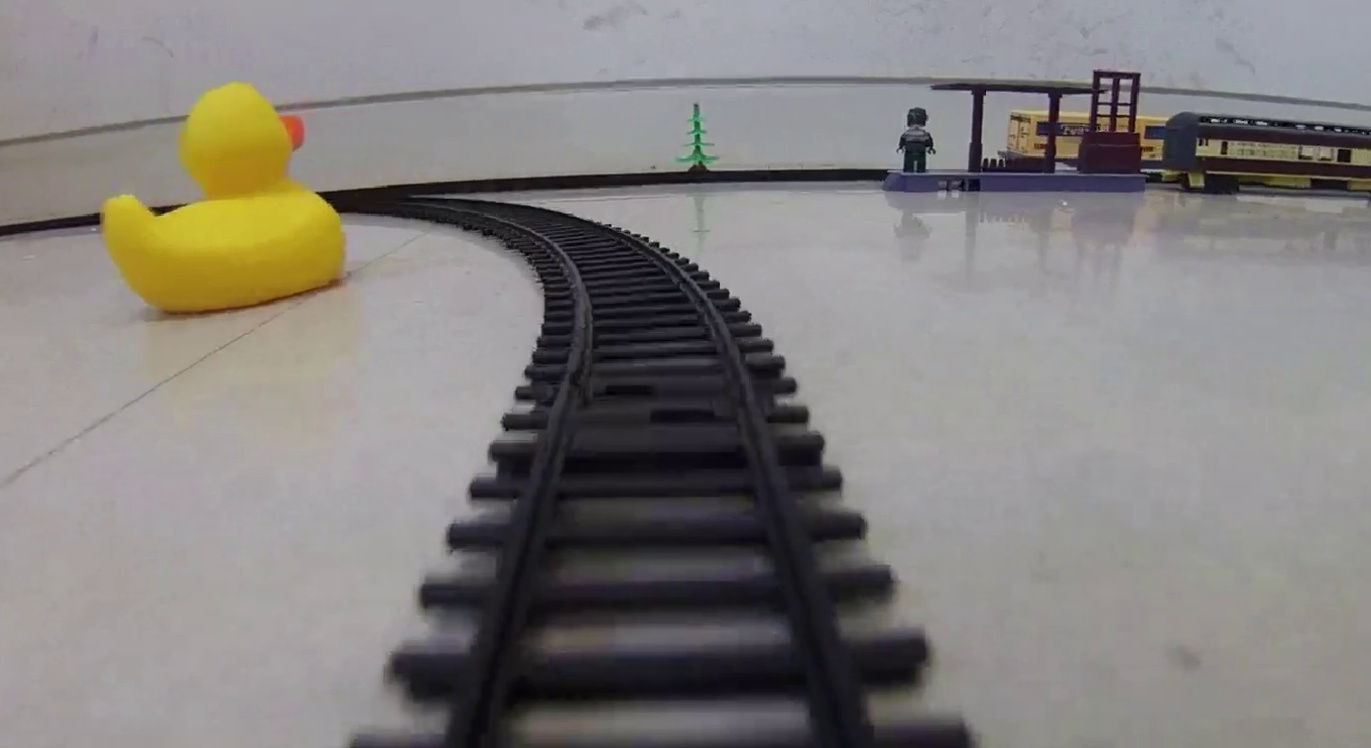people: (900, 107, 935, 172)
tree: (674, 103, 722, 175)
